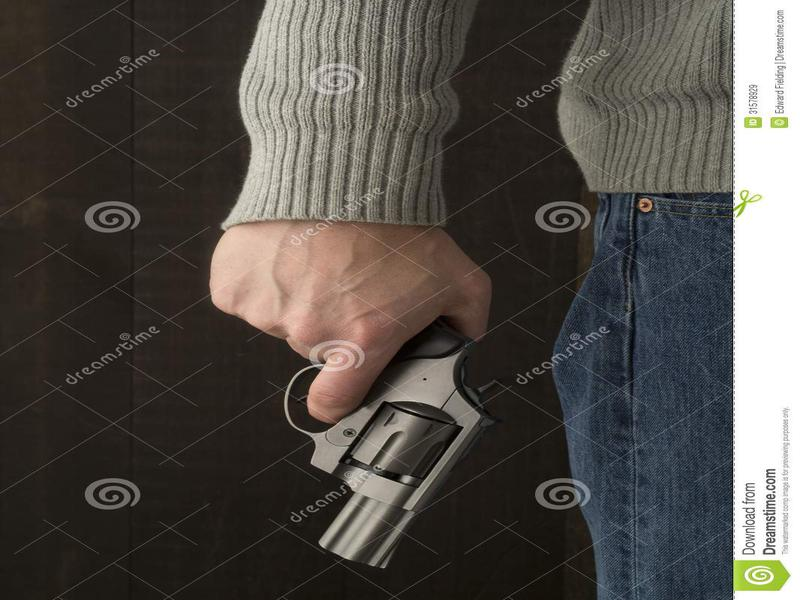Revolver: (278, 319, 516, 572)
